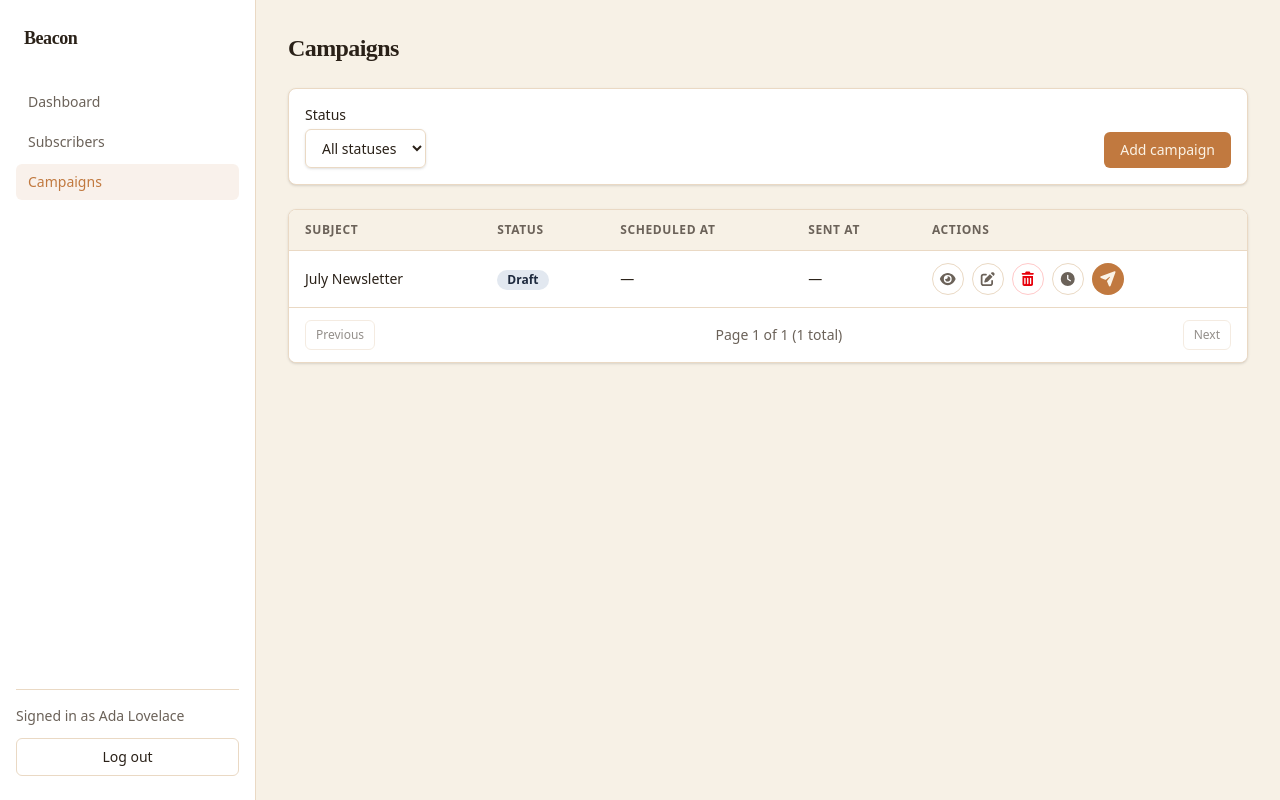
Test: CampaignListPage - preview › shows an error when the preview request fails
Expected: the text "July Newsletter" is shown, [289,250,481,307]
Click the button named "Preview" at (948, 279), box [932,263,964,295]
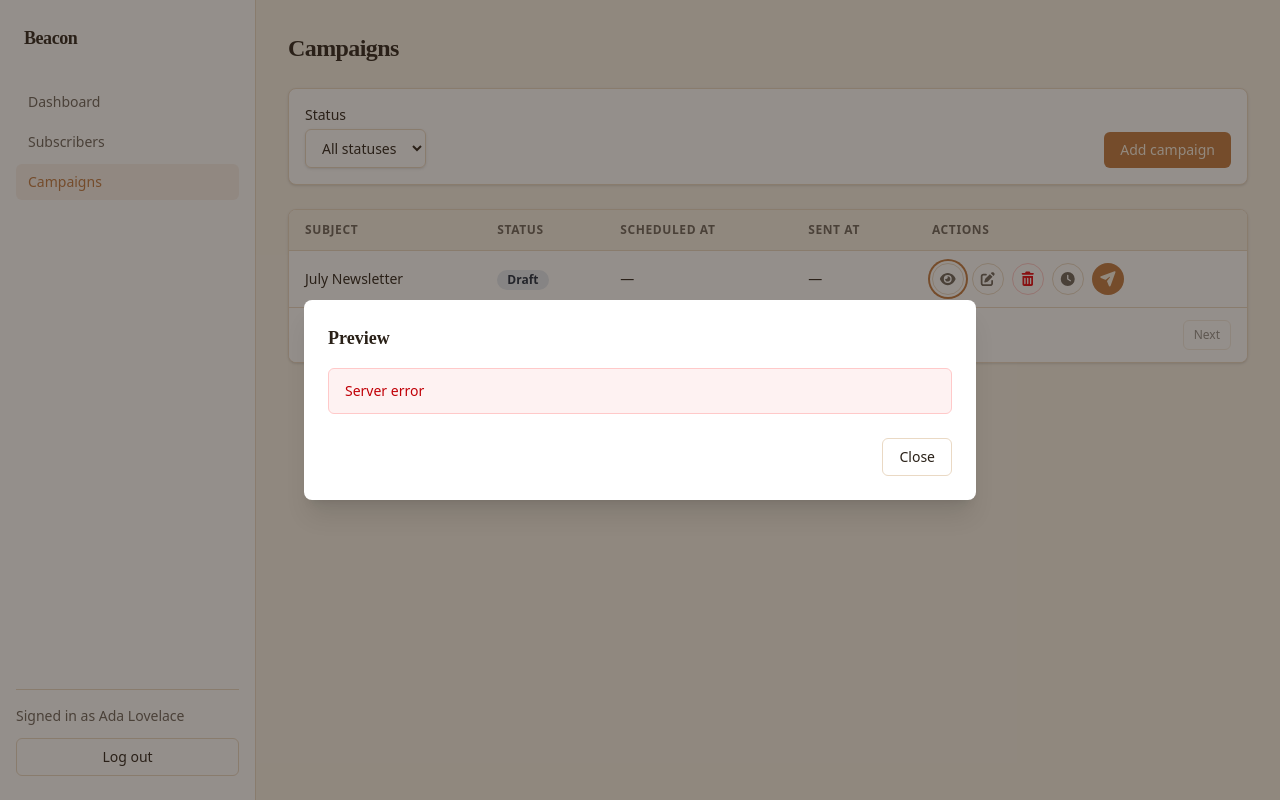
Expected: the message reads "Server error", [345,381,424,400]
